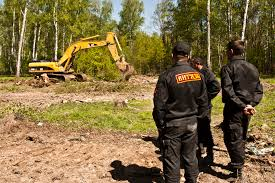excavator: (29, 31, 136, 86)
